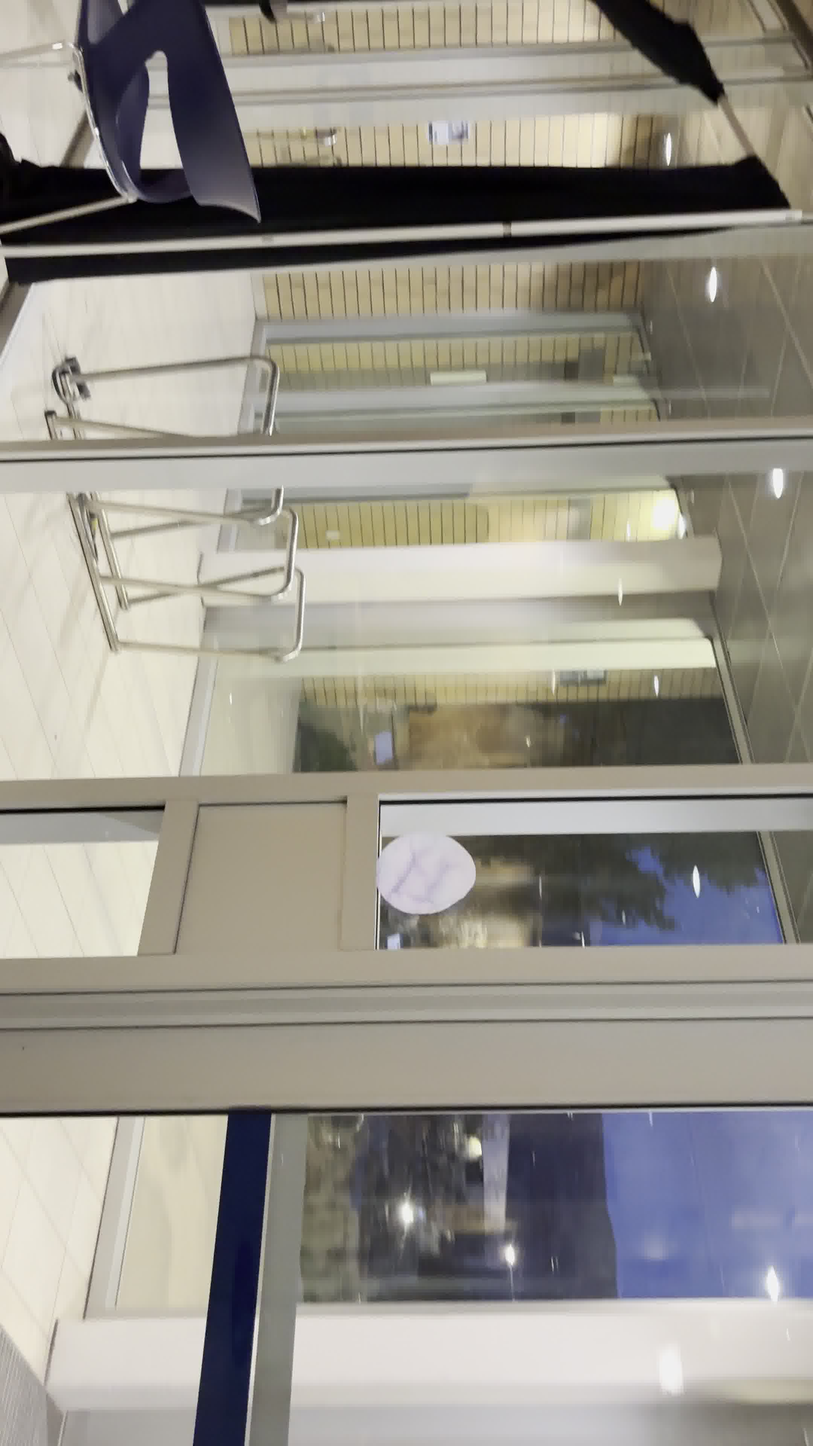Target: (374, 827, 478, 917)
